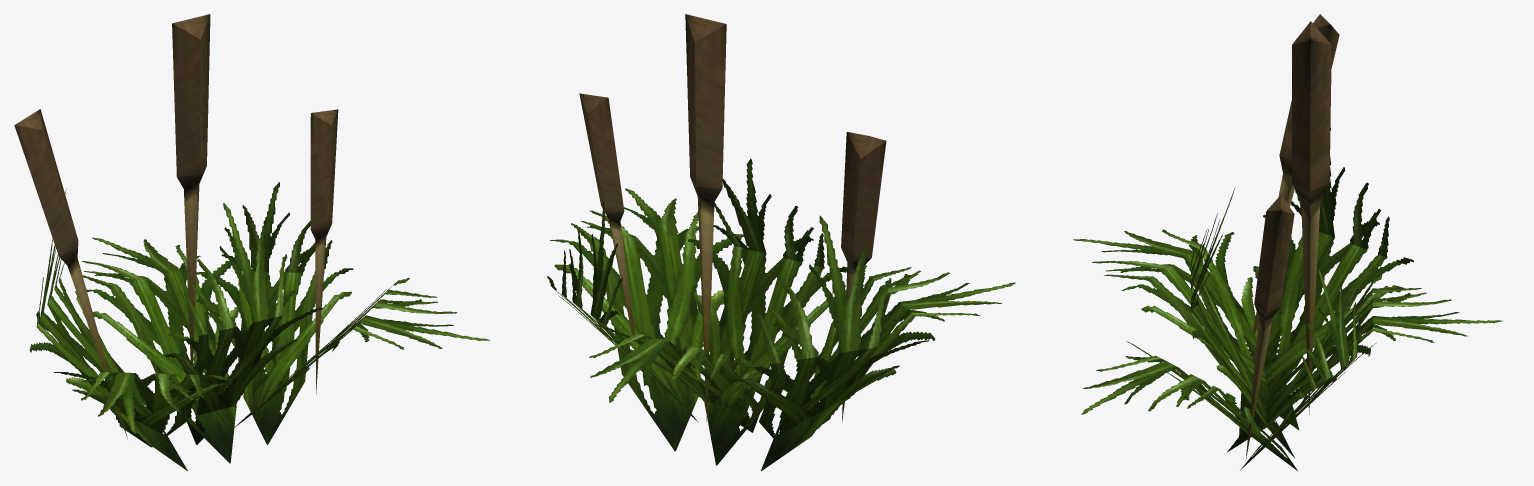
Rendered from naflbu7.dae.
3 views of the same model, side by side, from view 1: azimuth 30°, elevation 25°; view 2: azimuth 150°, elevation 25°; view 3: azimuth 270°, elevation 25° (orthographic). The views are drawn at different scales.
Parts seen in each view (by area): view 1: crown; view 2: crown; view 3: crown.
Boxes of the visible parts, x1=… form: crown: x1=14, y1=14, x2=489, y2=471; crown: x1=547, y1=14, x2=1015, y2=471; crown: x1=1073, y1=14, x2=1502, y2=470.
Size of the model in its own units: 1.84 by 1.83 by 1.89.
Materials: 1 (1 with a texture image).
